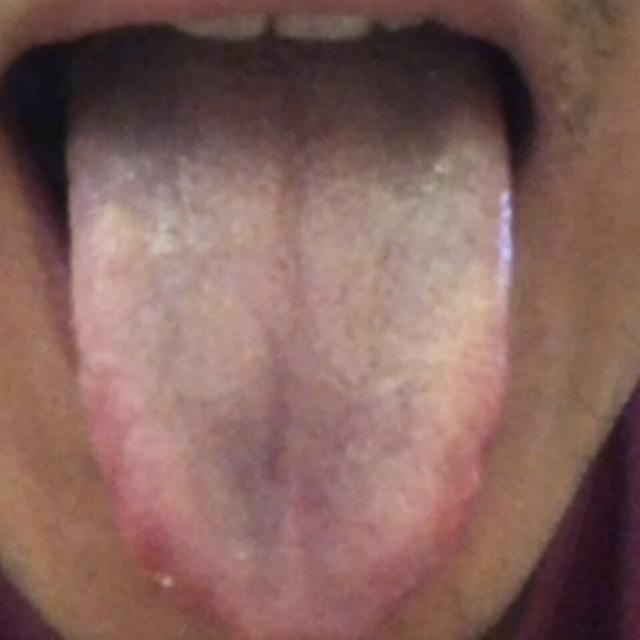huangtaishe: (64, 44, 515, 640)
shoushe: (64, 43, 515, 639)
